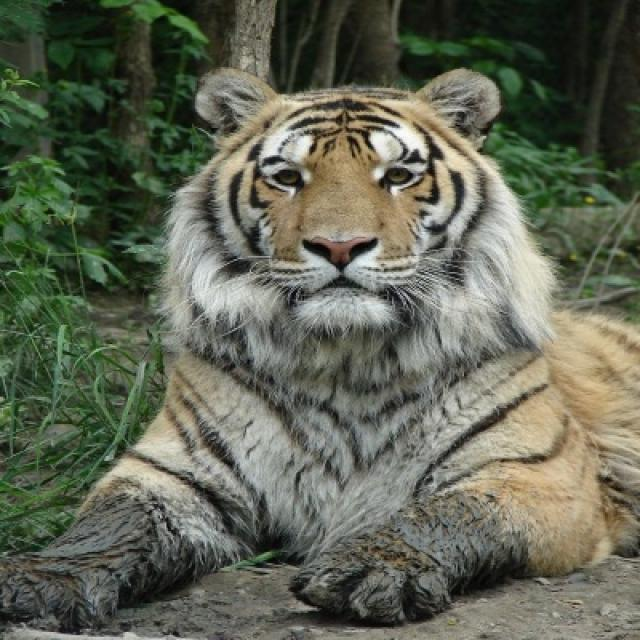Tiger: (10, 62, 635, 627)
